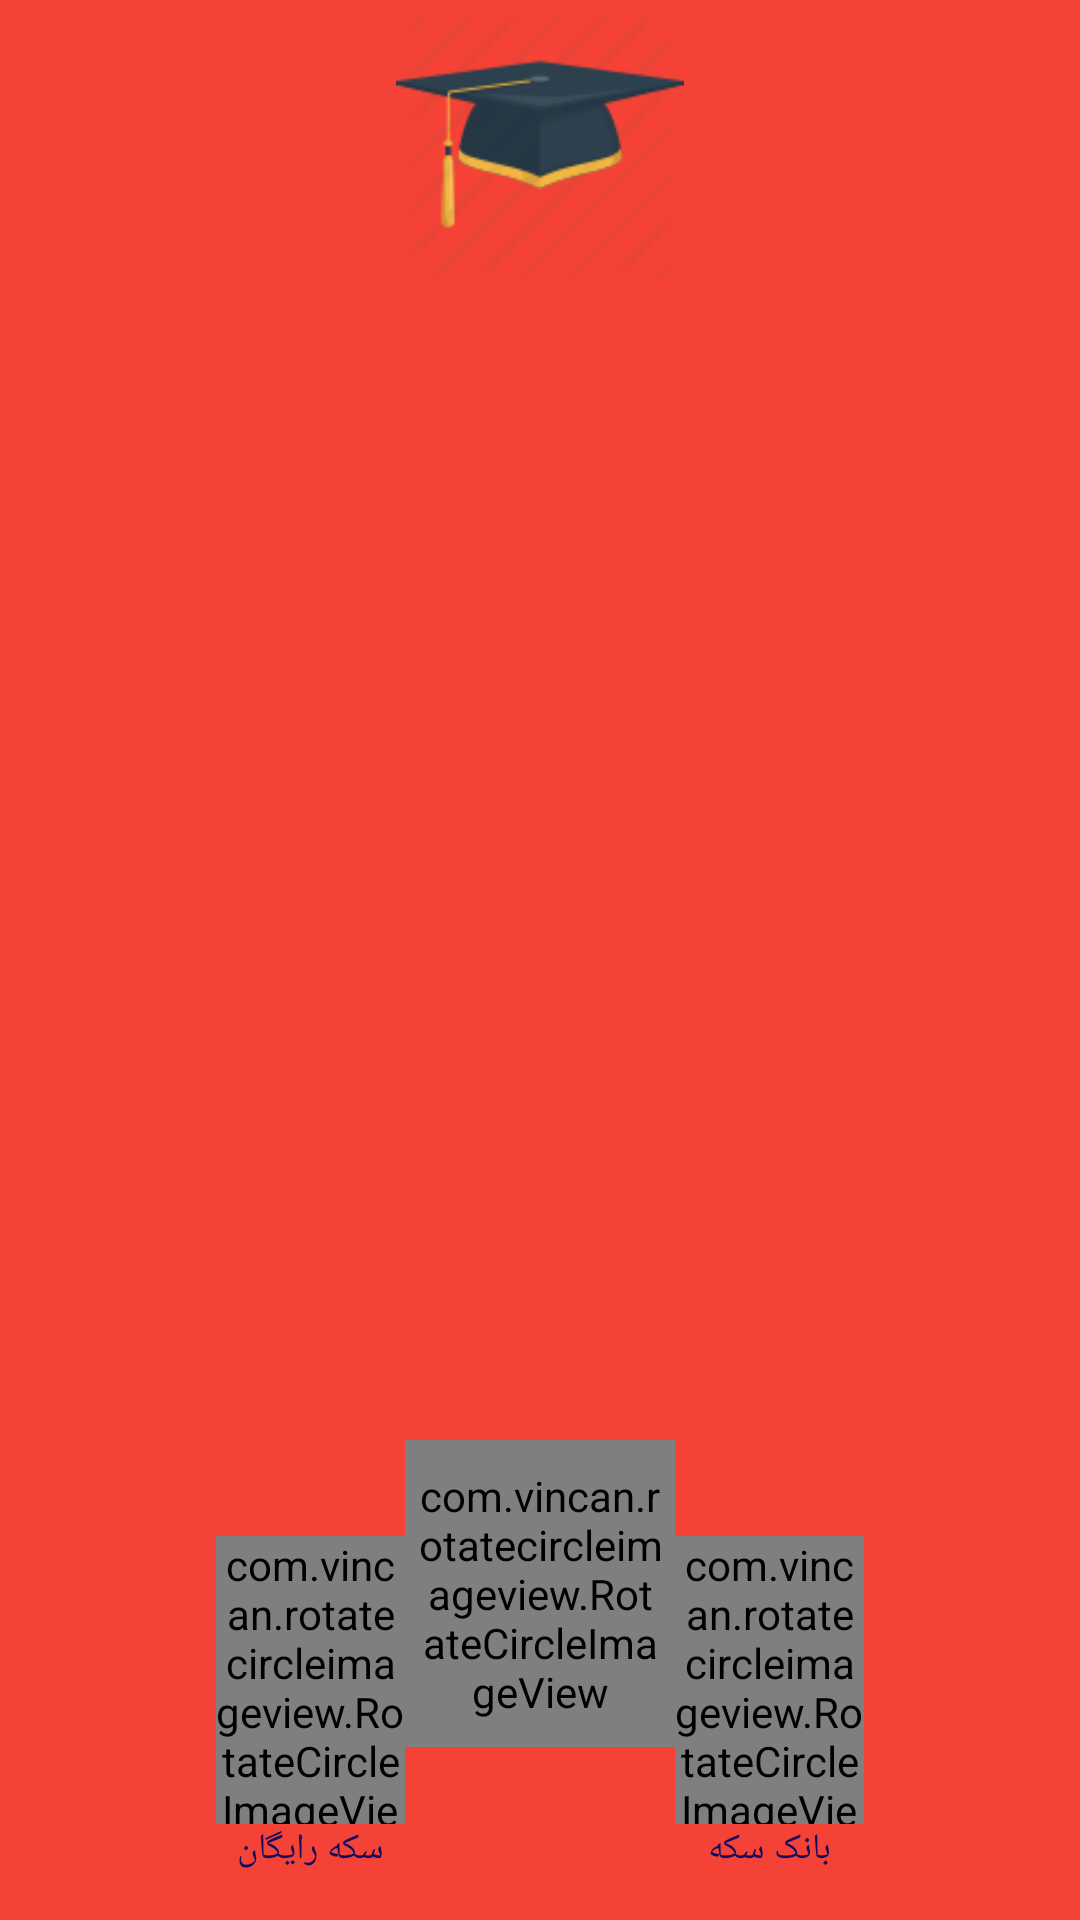

Screen size 1080px×1920px. Icon name, then its center in pixels as point (x, y):
studenthat: point (540, 144)
